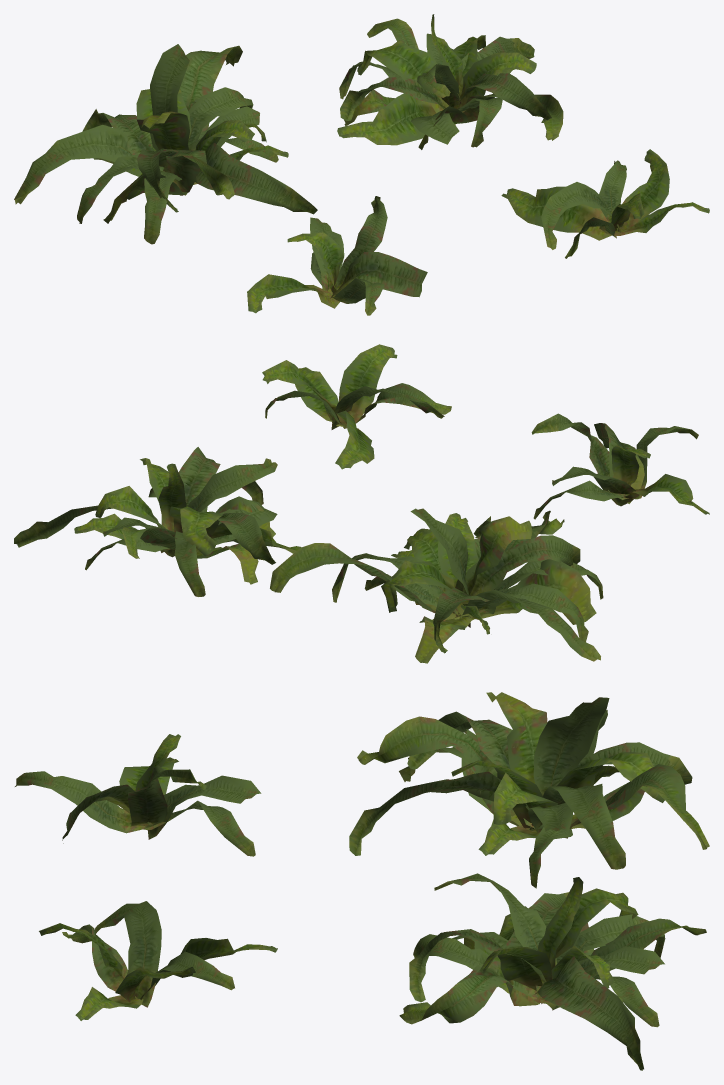
File: fern.glb
The picture shows the model from 3 angles, top to bottom: view 1: azimuth 30°, elevation 25°; view 2: azimuth 150°, elevation 25°; view 3: azimuth 270°, elevation 25°; orthographic projection. The views are drawn at different scales.
Visible parts, largest first — view 1: fern_02_b; view 2: fern_02_b; view 3: fern_02_b.
Boxes of the visible parts, x1,y1,x2,y2 form: fern_02_b: [14, 14, 709, 315]; fern_02_b: [14, 344, 709, 663]; fern_02_b: [15, 692, 709, 1070].
Size of the model in its own units: 1.97 by 0.4277 by 1.72.
1 material, 1 textured.
